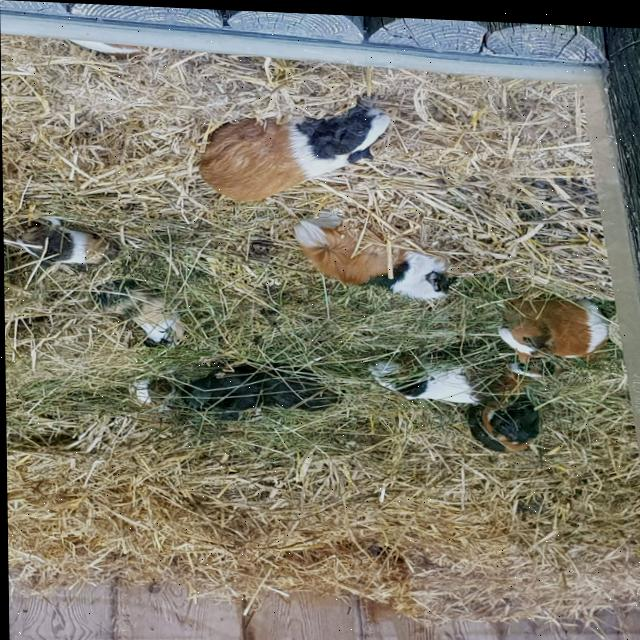guinea pig: (193, 94, 397, 206), (289, 207, 463, 301), (473, 291, 621, 365), (178, 359, 347, 417), (362, 351, 504, 407), (86, 275, 189, 348), (11, 209, 124, 269), (465, 385, 545, 453)
